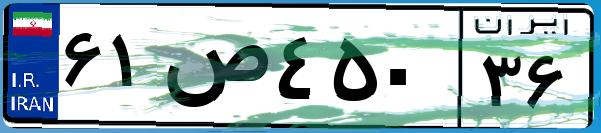0: (385, 28, 445, 110)
1: (110, 28, 158, 98)
3: (475, 38, 525, 113)
4: (270, 28, 330, 110)
5: (330, 28, 385, 110)
6: (57, 26, 110, 100), (525, 38, 570, 115)
ص: (158, 20, 270, 120)
